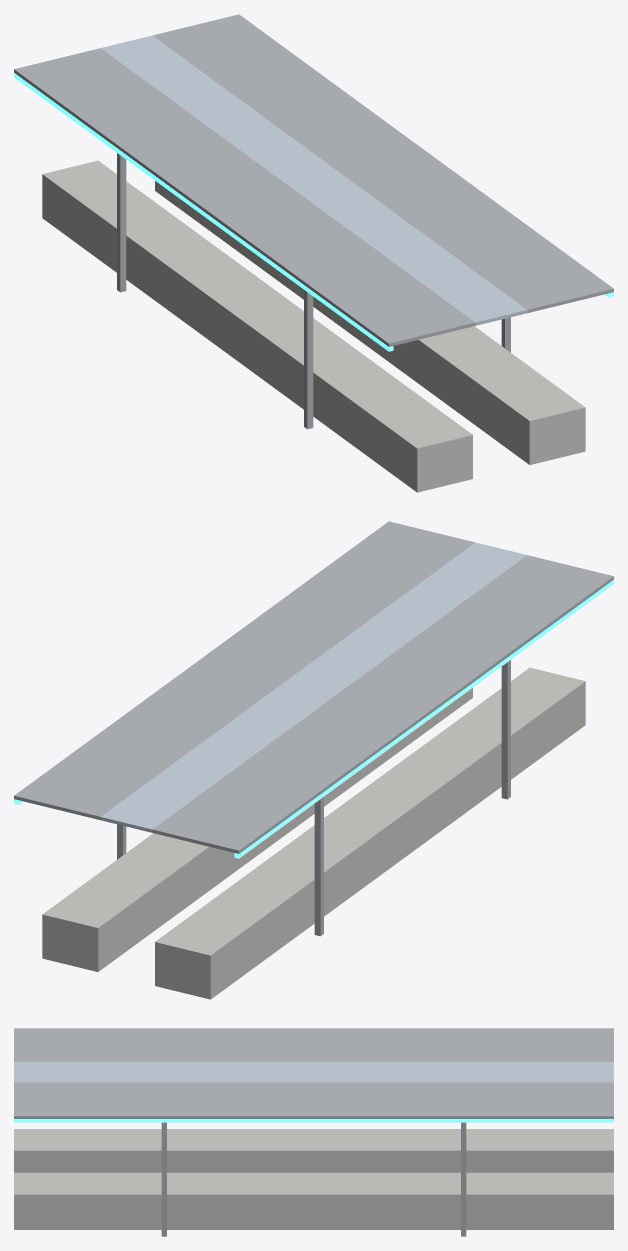
File: station.glb
3 views of the same model, one above another, from view 1: azimuth 30°, elevation 25°; view 2: azimuth 150°, elevation 25°; view 3: azimuth 270°, elevation 25° (orthographic). The views are drawn at different scales.
Visible parts, largest first — view 1: station_module; view 2: station_module; view 3: station_module.
Part boxes in pixels (bbox=[...]): station_module: bbox=[14, 14, 613, 492]; station_module: bbox=[14, 521, 613, 999]; station_module: bbox=[14, 1028, 613, 1236].
Size of the model in its own units: 13.9 by 9.2 by 40.1.
